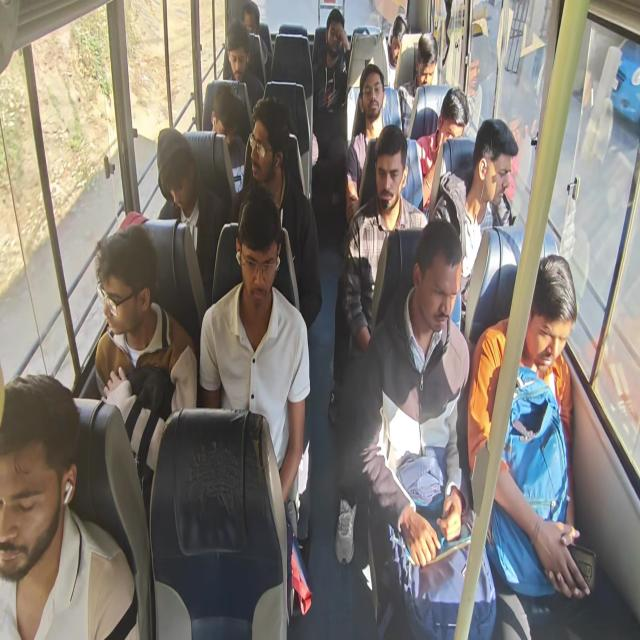person: (0, 373, 76, 587), (92, 235, 154, 336), (524, 264, 576, 383), (407, 225, 459, 325), (236, 204, 282, 315), (156, 137, 201, 217), (474, 125, 512, 216), (248, 108, 291, 186), (372, 130, 411, 212), (210, 92, 240, 156), (223, 24, 251, 87), (437, 93, 465, 150), (318, 12, 350, 59), (387, 11, 414, 60), (413, 34, 438, 86), (360, 68, 384, 122), (238, 5, 258, 32)
